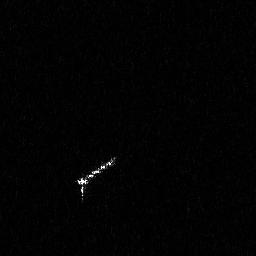ship: (74, 152, 119, 201)
